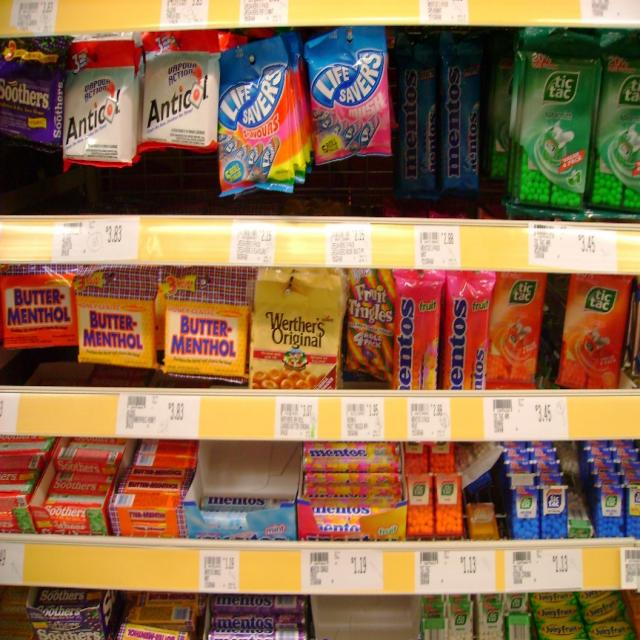q265: (67, 280, 161, 376), (162, 288, 252, 386)
